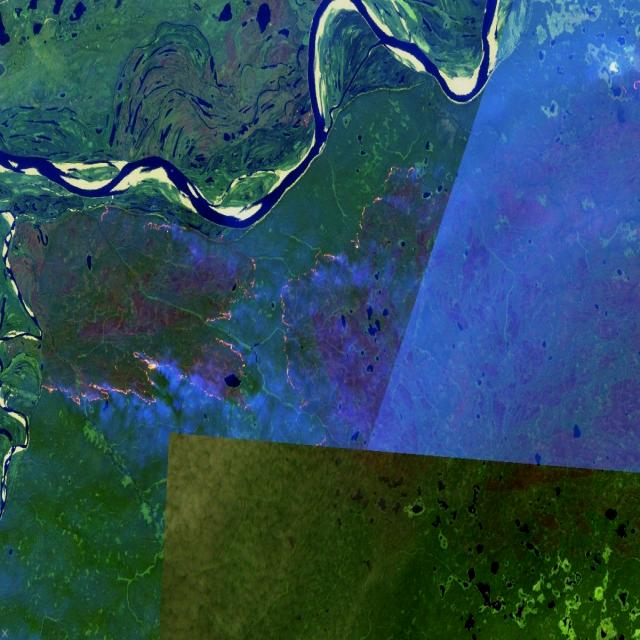fire: (38, 217, 264, 418), (276, 160, 423, 418), (617, 64, 640, 105)
